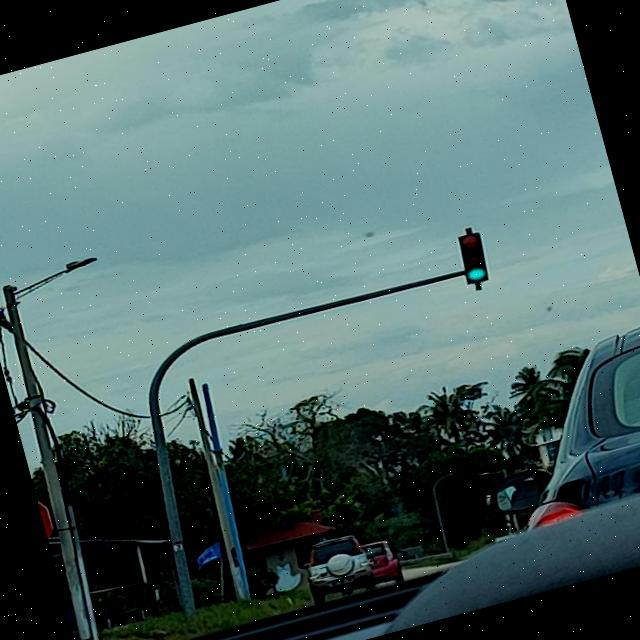green_light: (453, 230, 493, 286)
